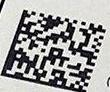datamatrix: (2, 10, 107, 92)
